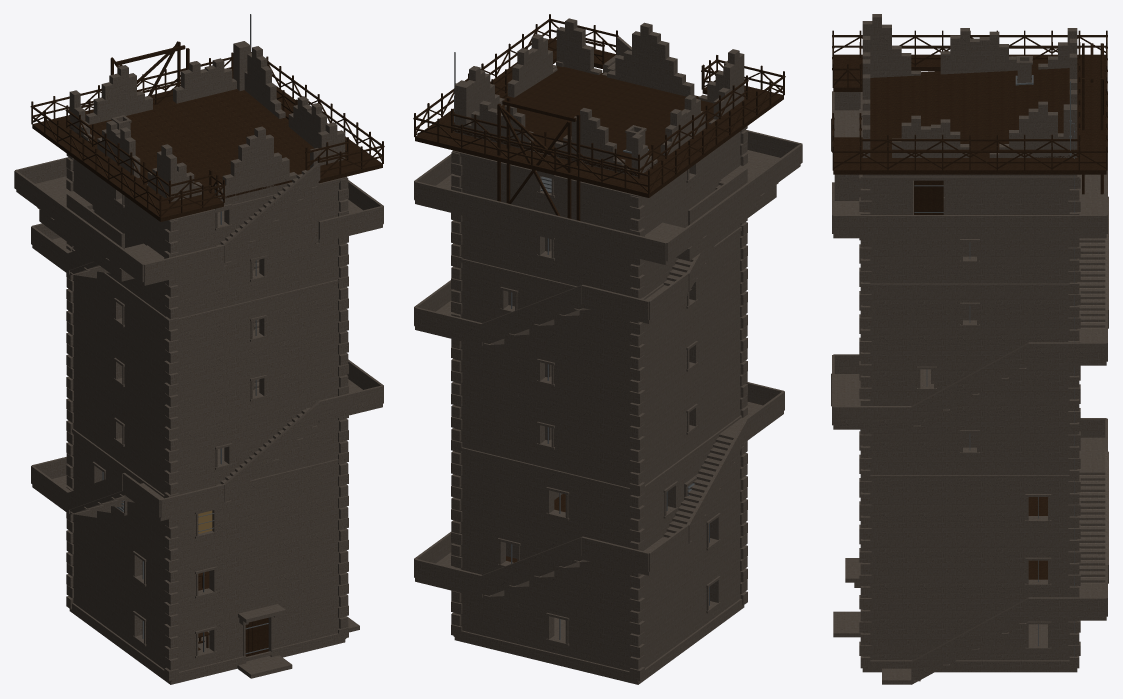
The model's file is s_academy_tower.glb.
3 views of the same model, side by side, from view 1: azimuth 30°, elevation 25°; view 2: azimuth 150°, elevation 25°; view 3: azimuth 270°, elevation 25° (orthographic). The views are drawn at different scales.
Visible parts, largest first — view 1: tower stone foundation, occupied floor; view 2: tower stone foundation, occupied floor, iron window divider; view 3: tower stone foundation, occupied floor, iron window divider.
Part boxes in pixels (x1,y1,x2,y2): tower stone foundation: (14,41,383,684); occupied floor: (30,41,384,590); tower stone foundation: (414,18,802,684); occupied floor: (413,14,785,562); iron window divider: (454,52,709,639); tower stone foundation: (831,14,1108,684); occupied floor: (832,30,1107,579); iron window divider: (860,75,1074,657).
Size of what is drawn, in the model's own units: 15.23 by 33.92 by 14.22.
10 materials, 4 textured.
